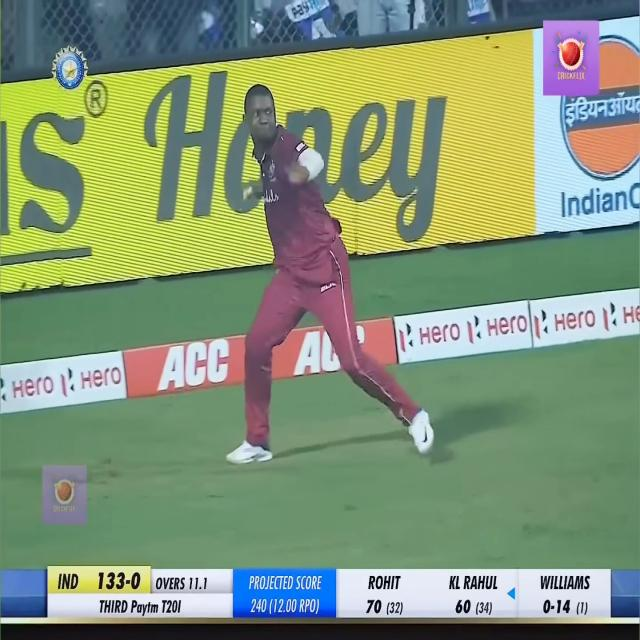fully_visible: (131, 594, 162, 624)
